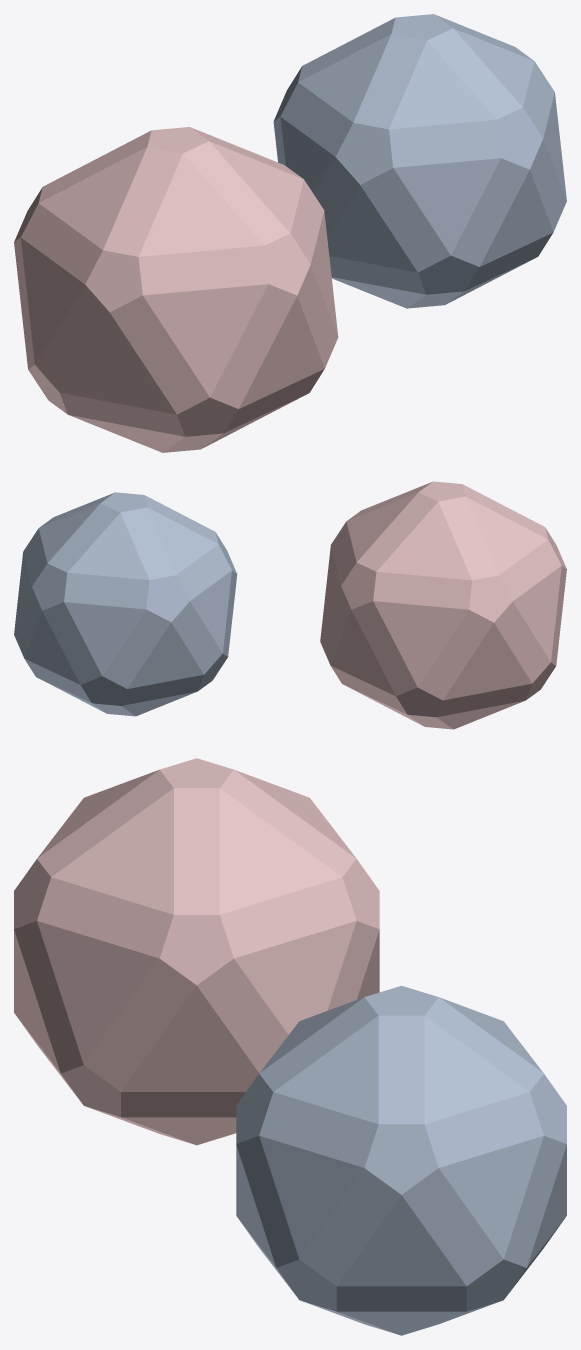
File: SM_Yarn_Ball.fbx
3 renders of one model, top to bottom at view 1: azimuth 30°, elevation 25°; view 2: azimuth 150°, elevation 25°; view 3: azimuth 270°, elevation 25°, orthographic. The views are drawn at different scales.
Visible parts, largest first — view 1: Yarn_Ball; view 2: Yarn_Ball; view 3: Yarn_Ball.
Boxes of the visible parts, left/top/right/bottom form: Yarn_Ball: left=14, top=14, right=566, bottom=452; Yarn_Ball: left=14, top=481, right=566, bottom=729; Yarn_Ball: left=14, top=758, right=566, bottom=1335.
Bounding box in the file's own units: 19.94 × 9.54 × 13.5.
